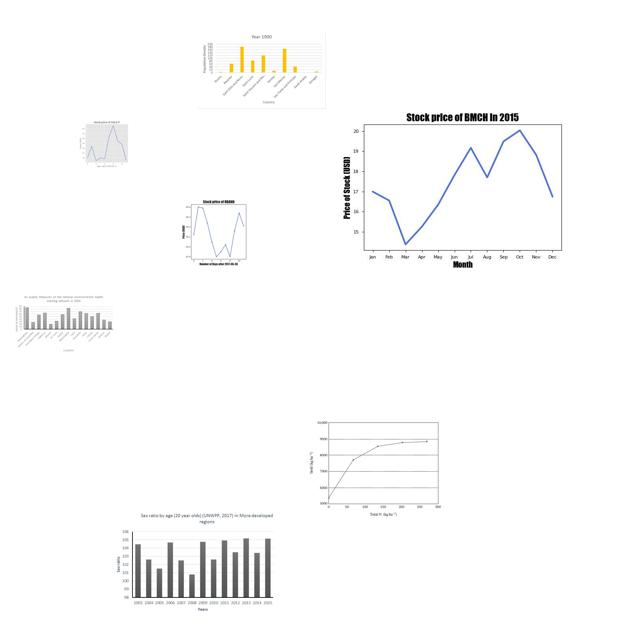Graph: (332, 99, 587, 274), (112, 512, 276, 613), (307, 418, 442, 518), (198, 31, 326, 109), (170, 196, 265, 267), (13, 293, 114, 353), (73, 118, 139, 168)
